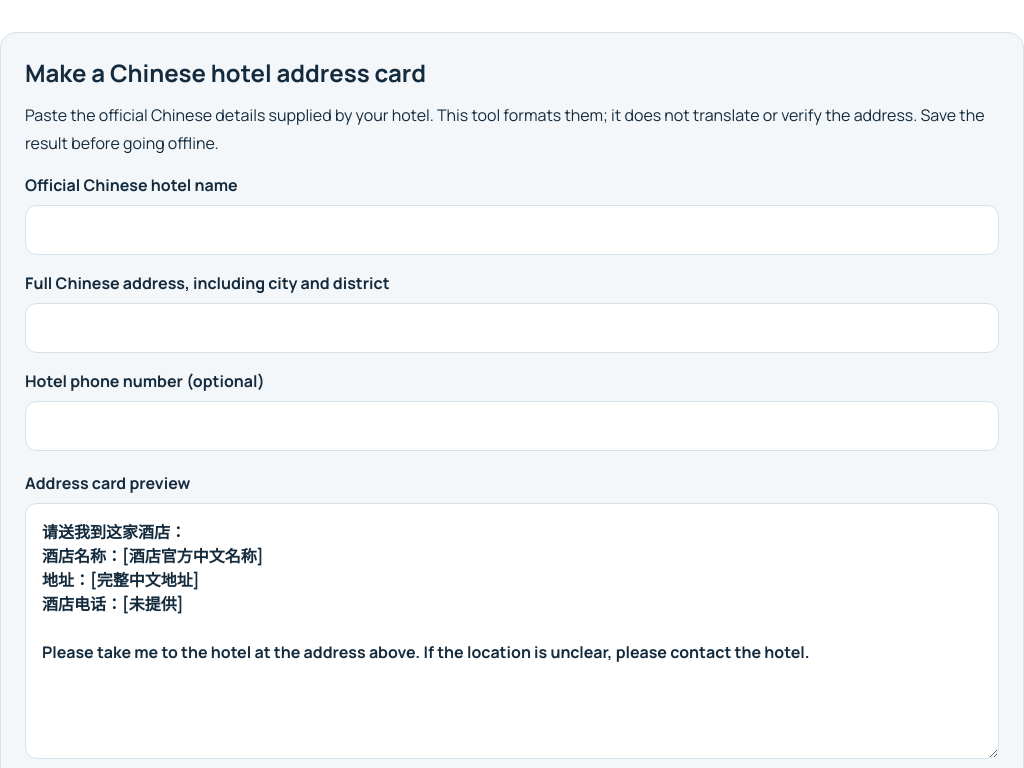
Test: shows a manual fallback if copying is blocked
Type "测试酒店" into the field labelled "Official Chinese hotel name" at x=512, y=230, box [25, 205, 999, 255]
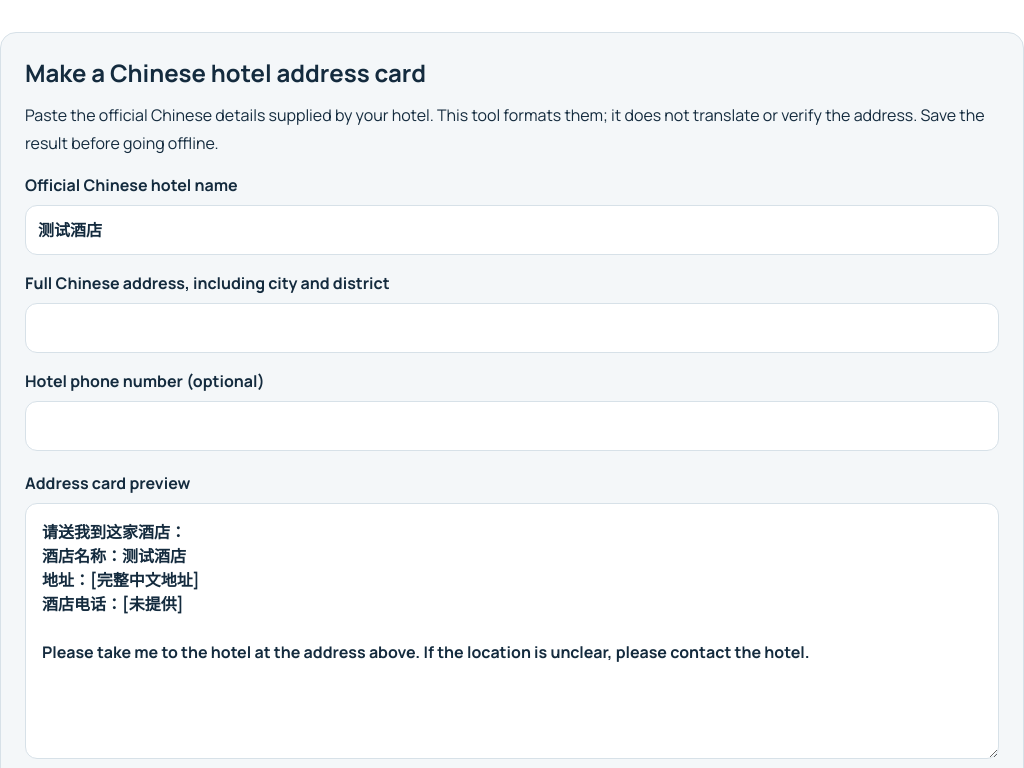
Type "上海市测试地址" into the field labelled "Full Chinese address, including city and district" at x=512, y=328, box [25, 303, 999, 353]
(page scrolled)
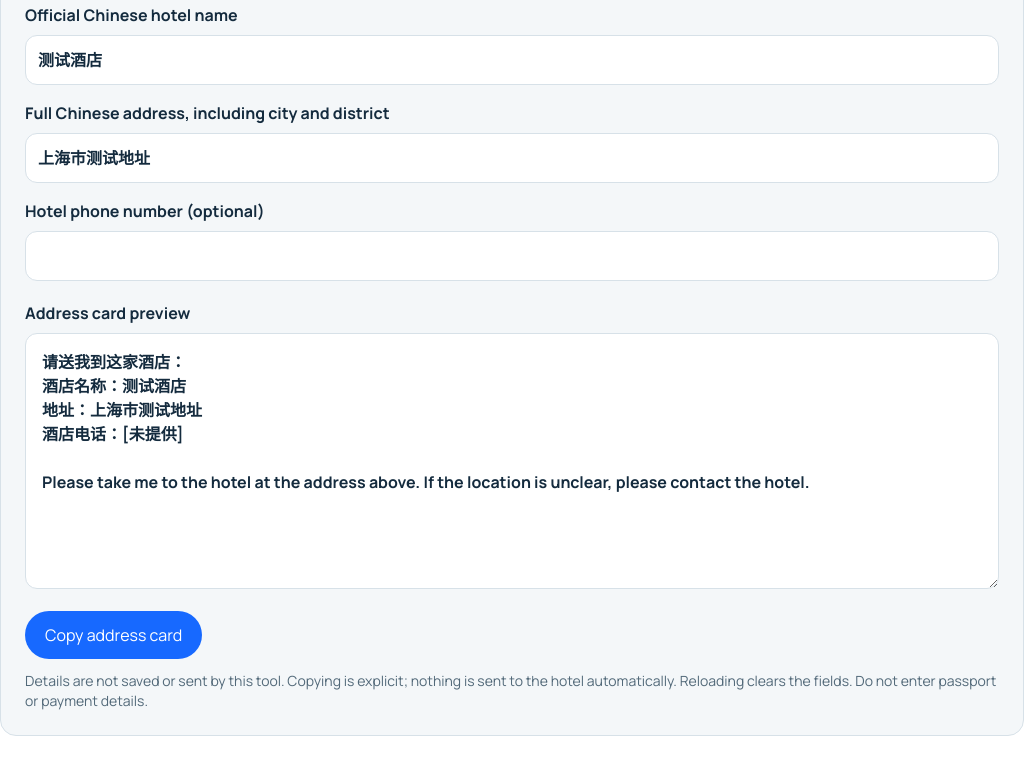
Click the button "Copy address card" at x=114, y=635, box [25, 611, 202, 659]
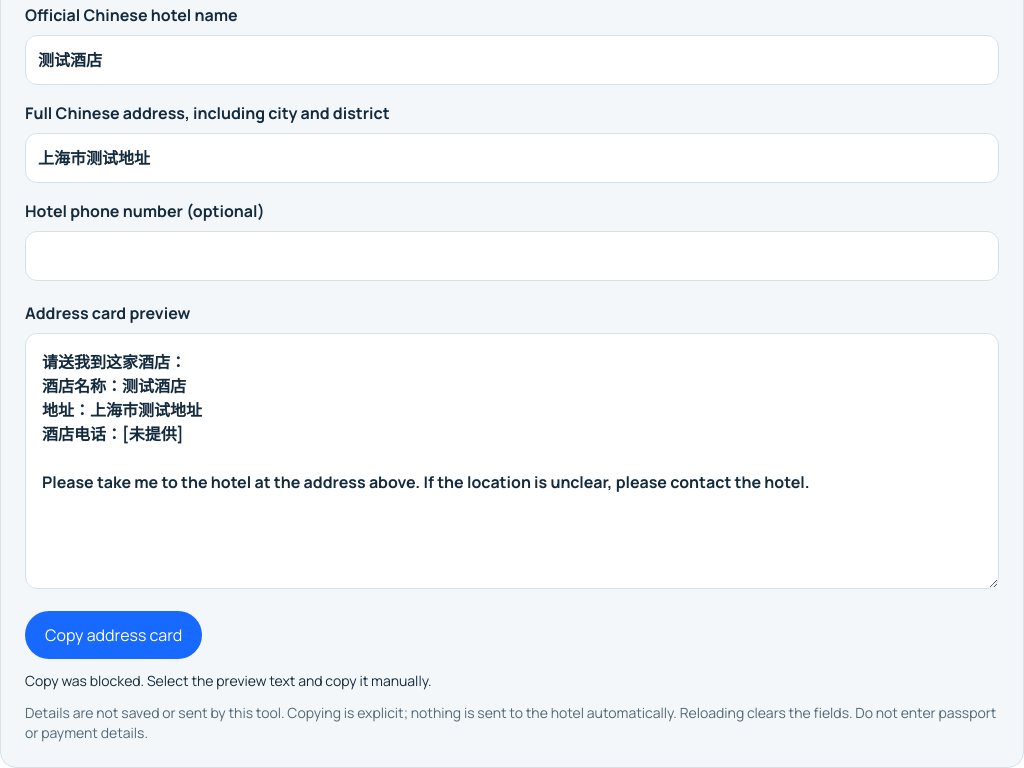
Result: the message shows "copy it manually" at [25, 671, 432, 690]
